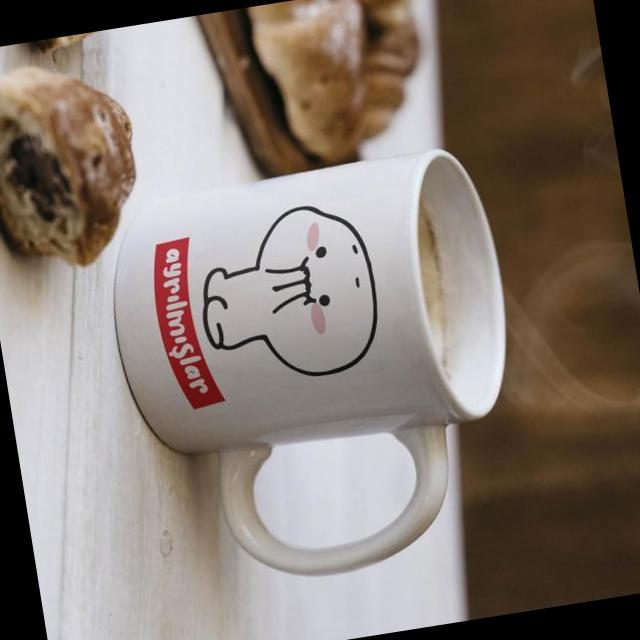Coffee Mug: (84, 140, 543, 606)
